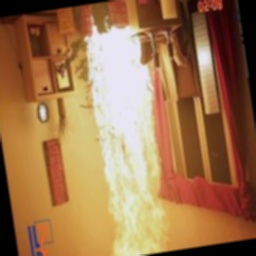fire: (54, 9, 201, 256)
